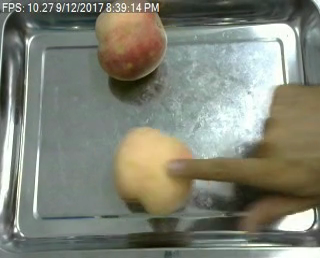Peach: (114, 126, 193, 216), (94, 1, 167, 80)
